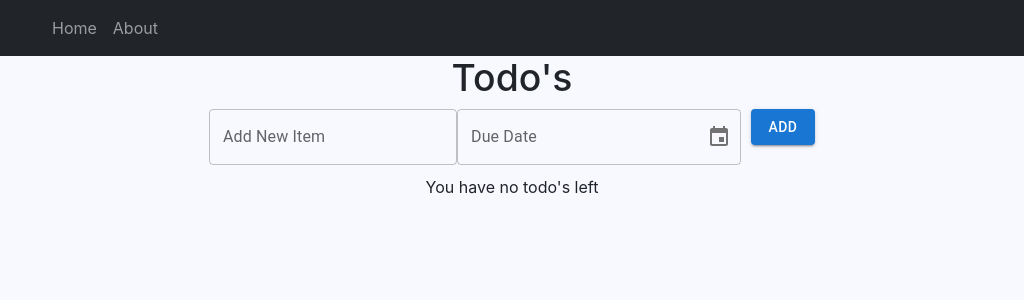
Test: test for deleting a task
Note: add the task
In the field labelled "Add New Item": (333, 137) [209,109,457,165], type "History Test"
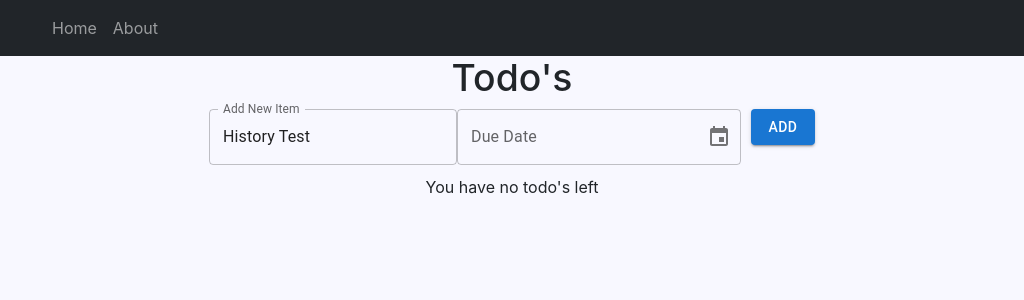
In the field with placeholder "mm/dd/yyyy": (574, 137) [457,109,691,165], type "05/30/2024"
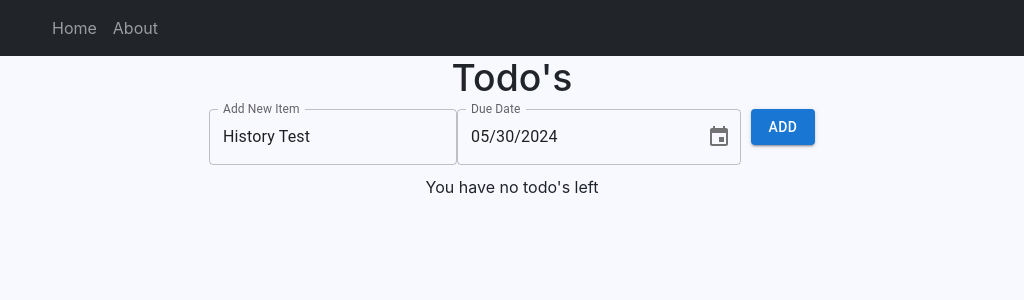
Click the button "Add": click(783, 127) [751,109,815,145]
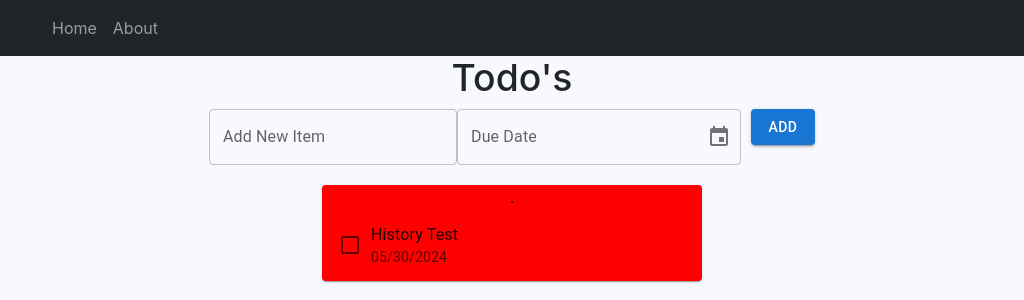
Expected: the element with test id "History Test" is shown, [322,185,702,281]
Click the checkbox: click(350, 245) [338,233,362,257]
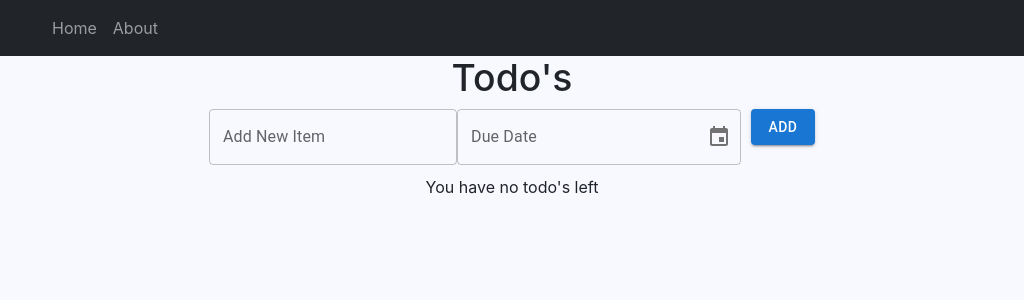
Expected: the text "You have no todo's left" is shown, [426,177,598,197]
